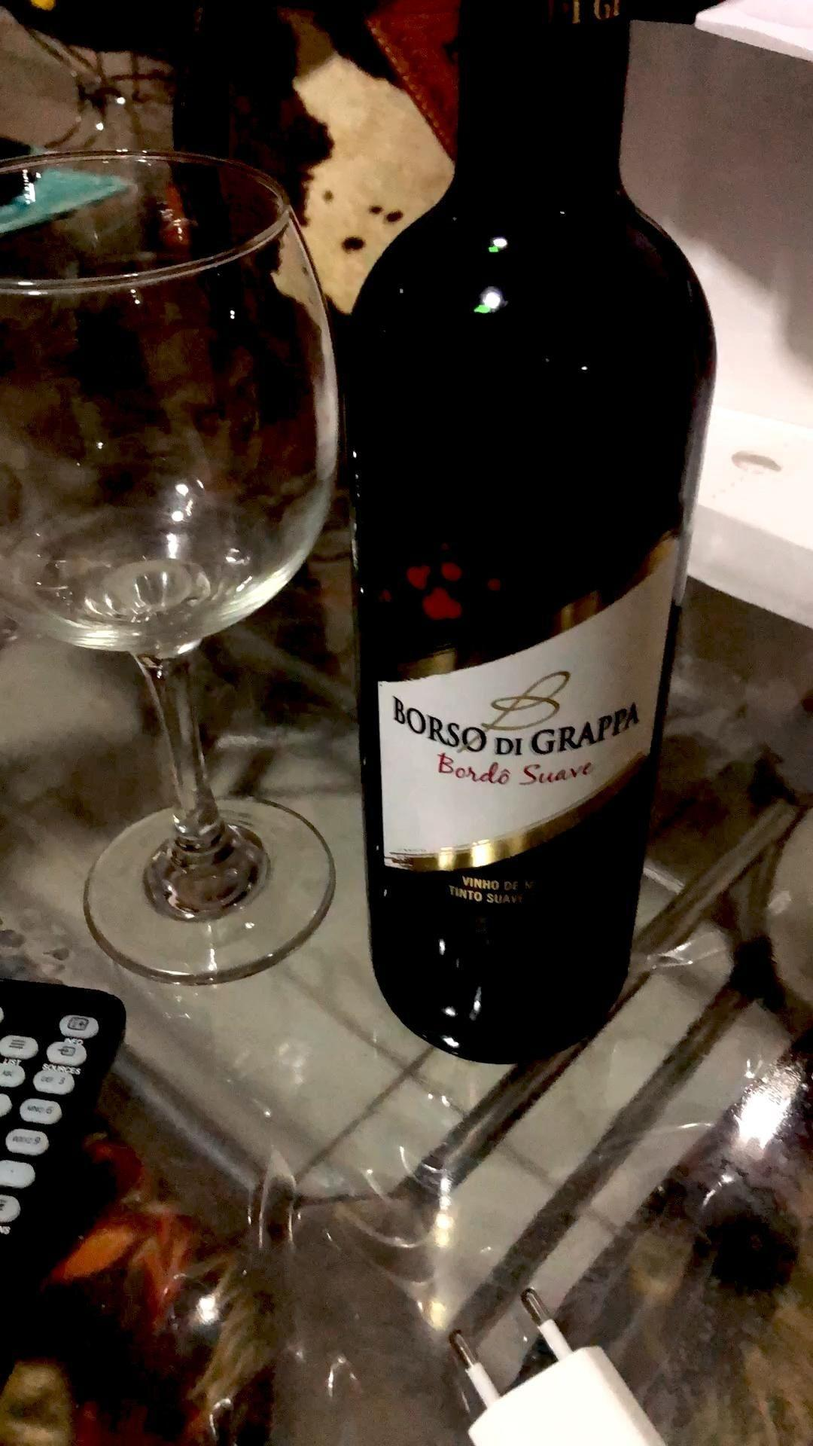bottle-glass: (344, 1, 726, 1042)
glass-wine: (1, 148, 348, 1001)
